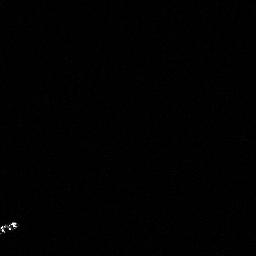ship: (1, 220, 16, 232)
